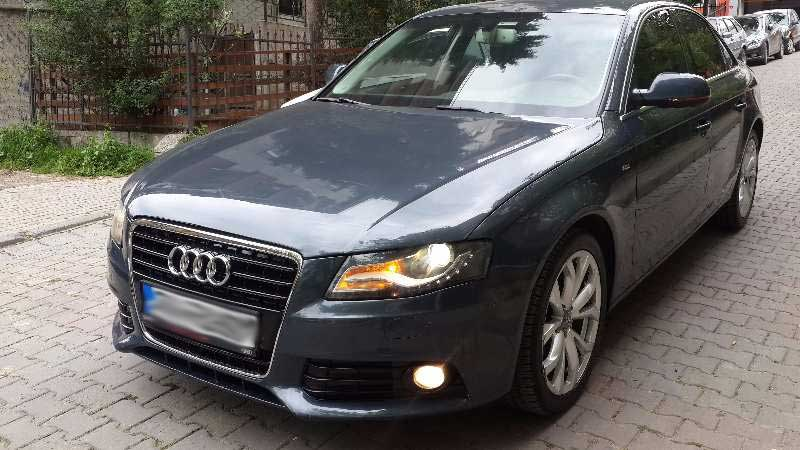audi: (162, 242, 234, 292)
